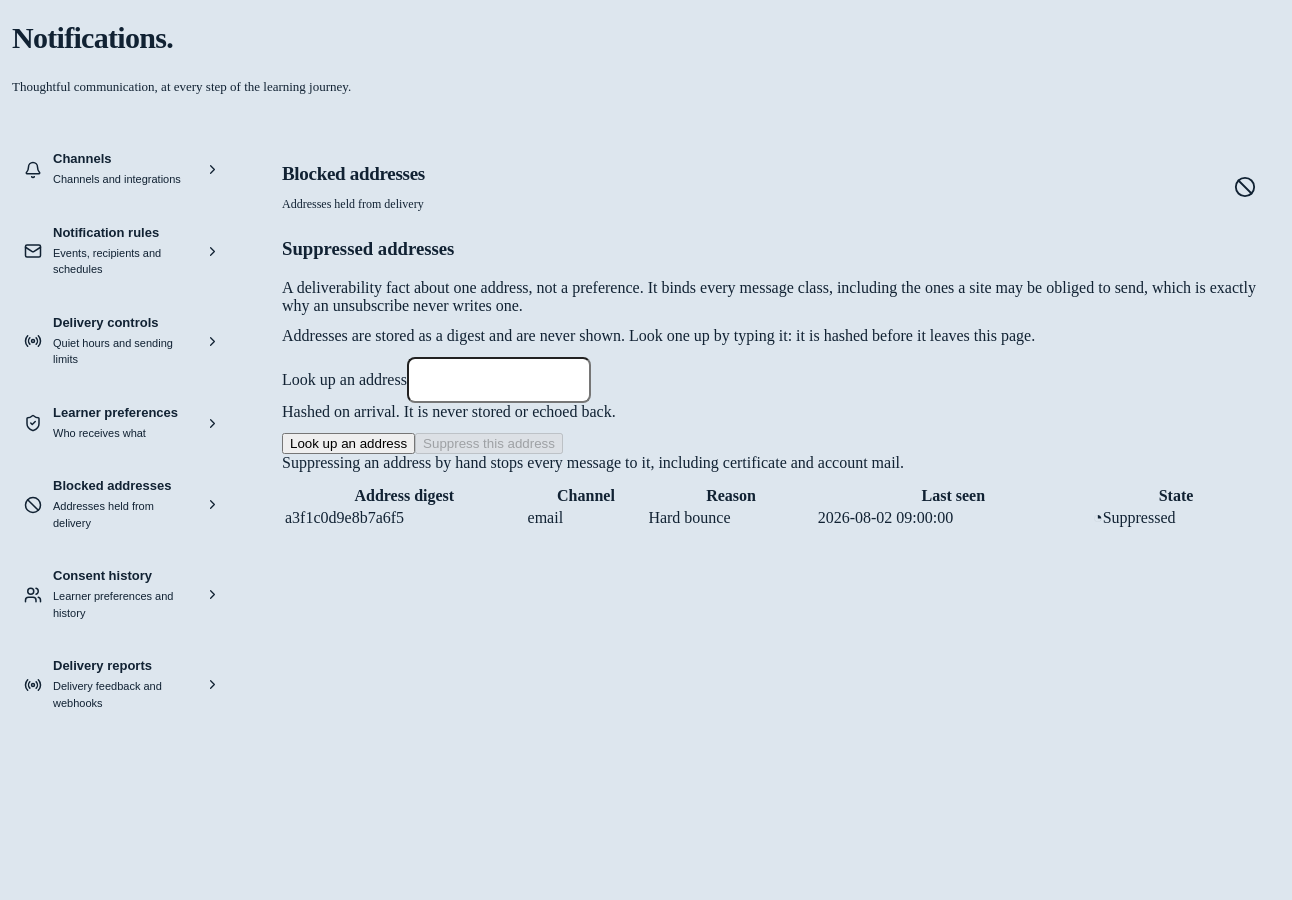
Scenario: the consent record › shows the lawful basis on the row, which is what an audit can query
Click the tab "Consent history" at (122, 595), box x1=12 y1=553 x2=232 y2=636
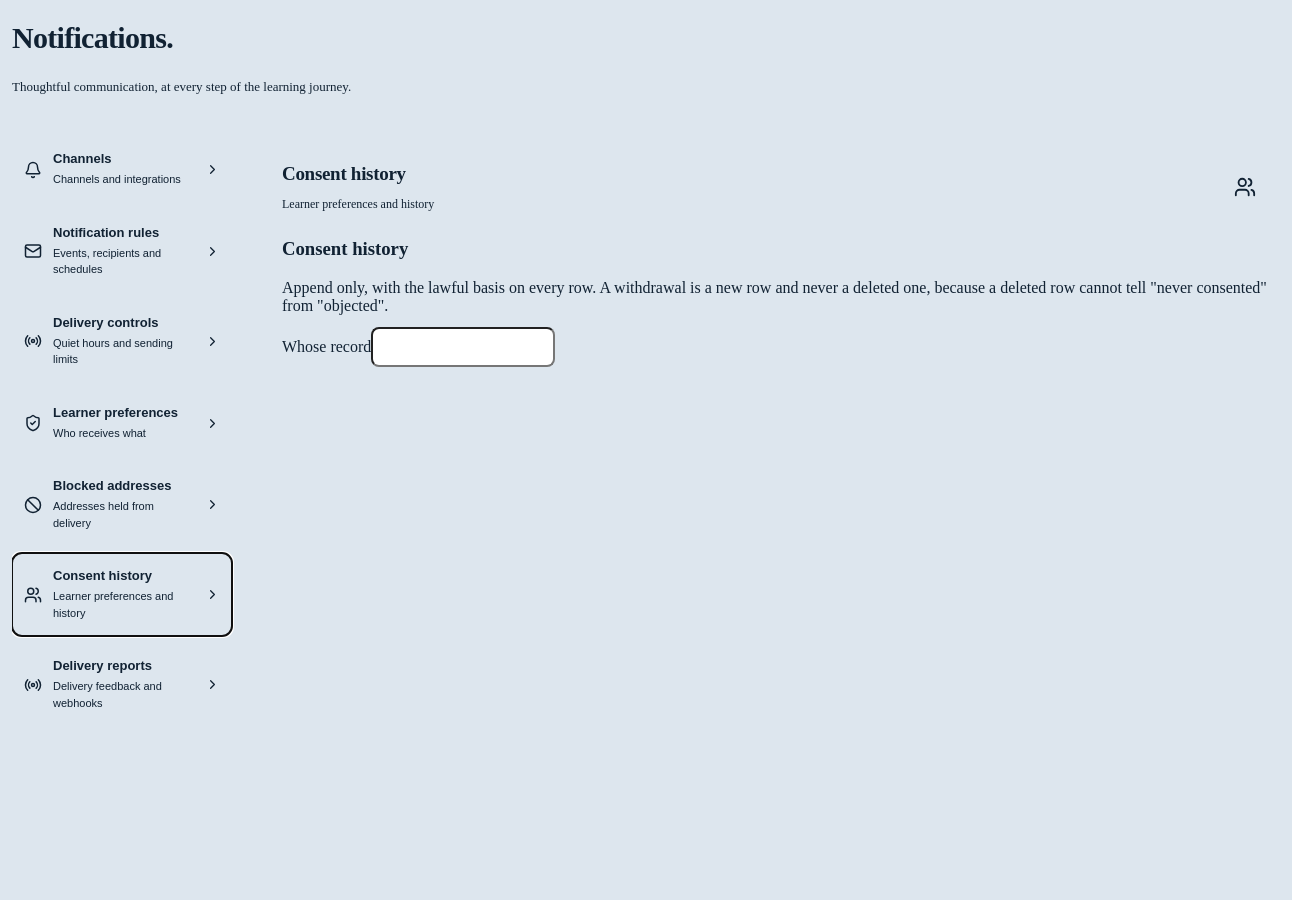
Type "Priya" into the search field labelled "Whose record" at (463, 347), box x1=371 y1=327 x2=555 y2=367
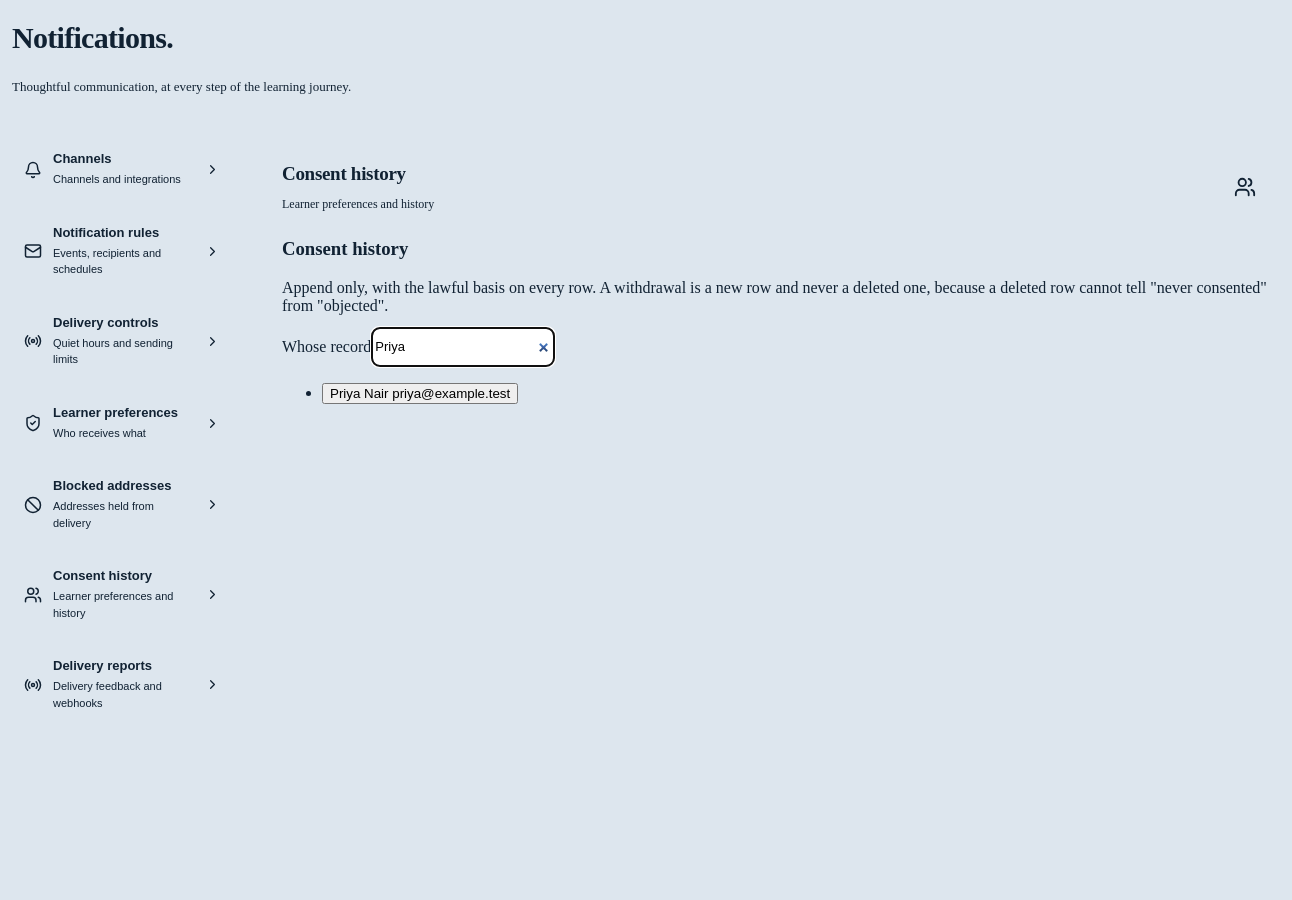
Click the button "Priya Nair priya@example.test" at (420, 393), box x1=322 y1=383 x2=518 y2=404
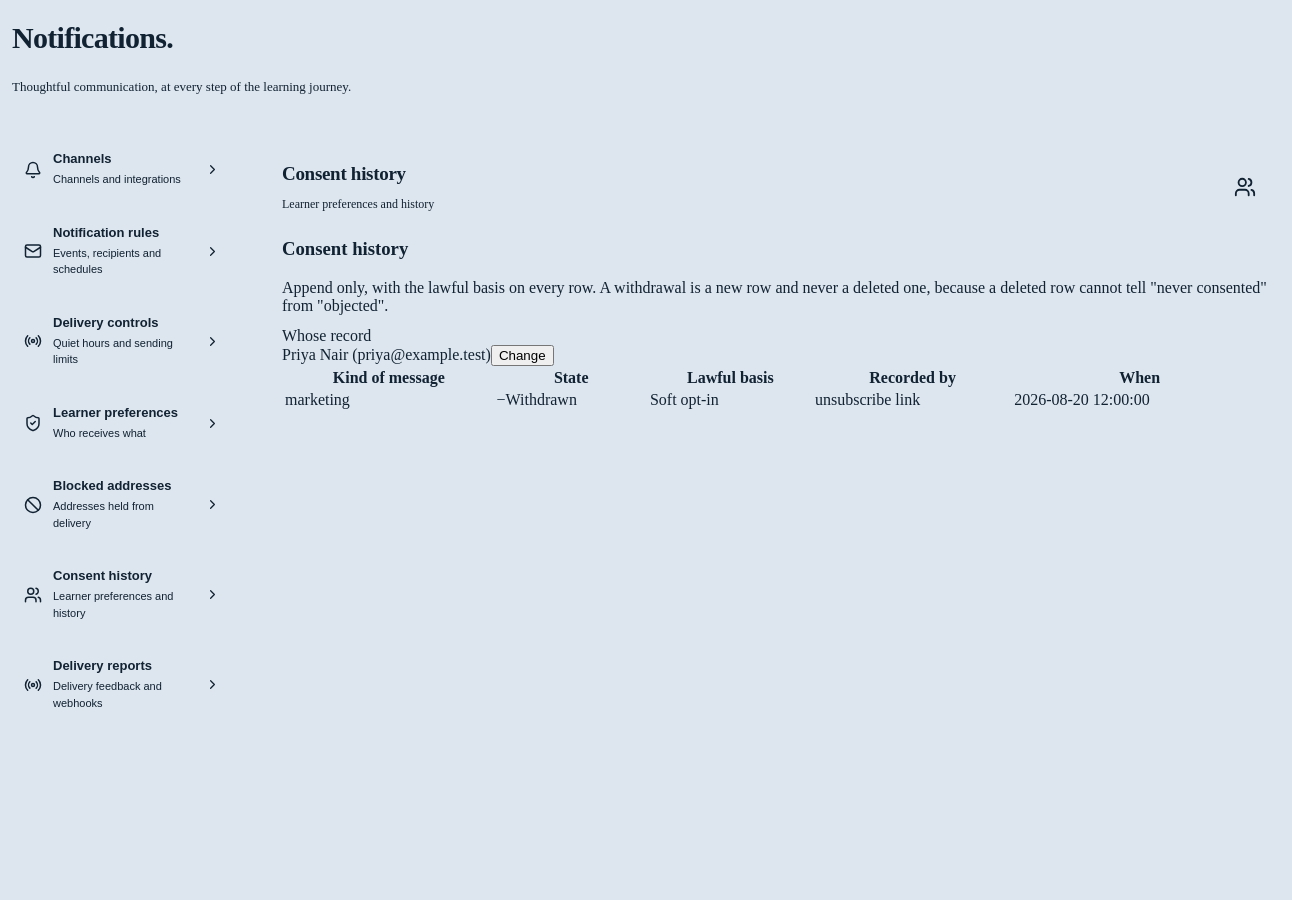
Result: the text "A withdrawal is a new row and never a deleted one" is shown at x1=282 y1=279 x2=1267 y2=314
Result: the text "Soft opt-in" is shown at x1=649 y1=390 x2=812 y2=410
Result: the text "Withdrawn" is shown at x1=506 y1=391 x2=577 y2=408
